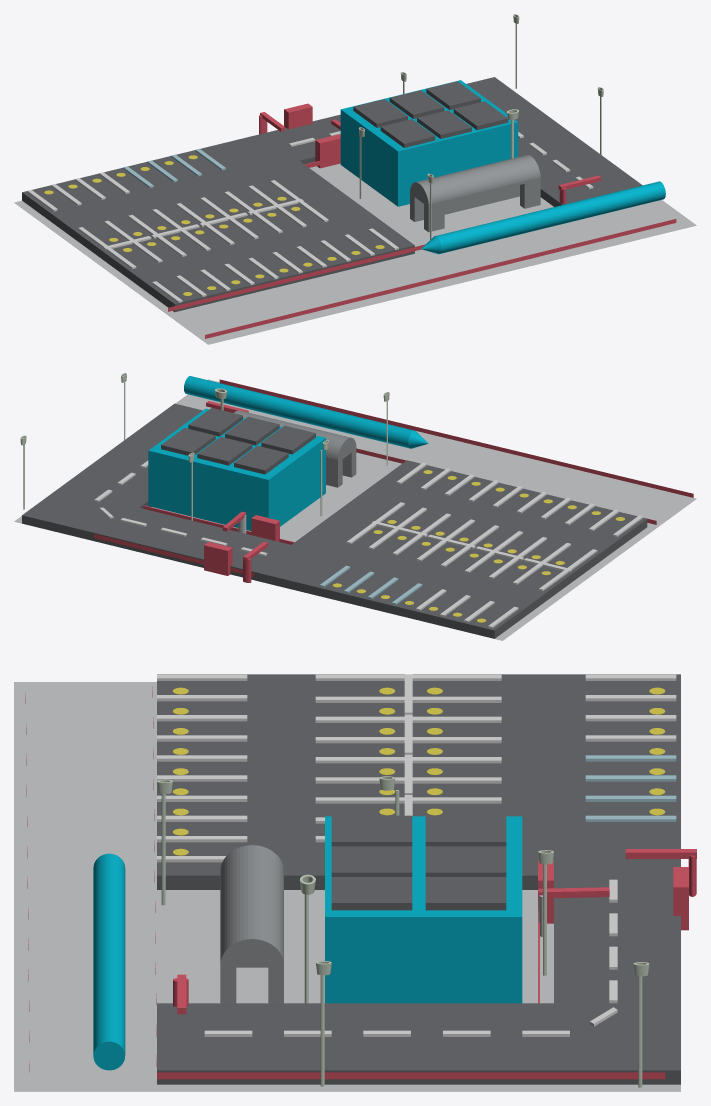
Rendered from Smashing Migelo.glb.
3 views of the same model, one above another, from view 1: azimuth 30°, elevation 25°; view 2: azimuth 150°, elevation 25°; view 3: azimuth 270°, elevation 25° (orthographic). The views are drawn at different scales.
Visible parts, largest first — view 1: Mesh_Mesh_head_geo.001_lambert2SG.001; view 2: Mesh_Mesh_head_geo.001_lambert2SG.001; view 3: Mesh_Mesh_head_geo.001_lambert2SG.001.
Boxes of the visible parts, box(x1,y1,x2,y2) form: Mesh_Mesh_head_geo.001_lambert2SG.001: box(14, 14, 696, 344); Mesh_Mesh_head_geo.001_lambert2SG.001: box(14, 373, 696, 640); Mesh_Mesh_head_geo.001_lambert2SG.001: box(14, 674, 696, 1091).
Size of the model in its own units: 0.0615 by 0.009 by 0.043.
